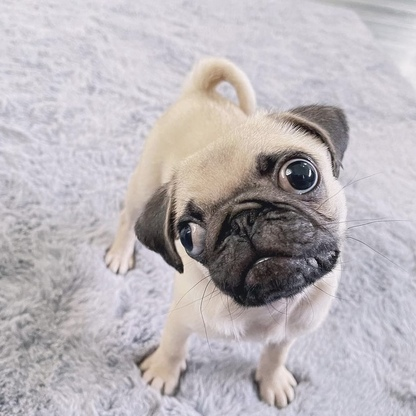Pug: (99, 52, 352, 411)
